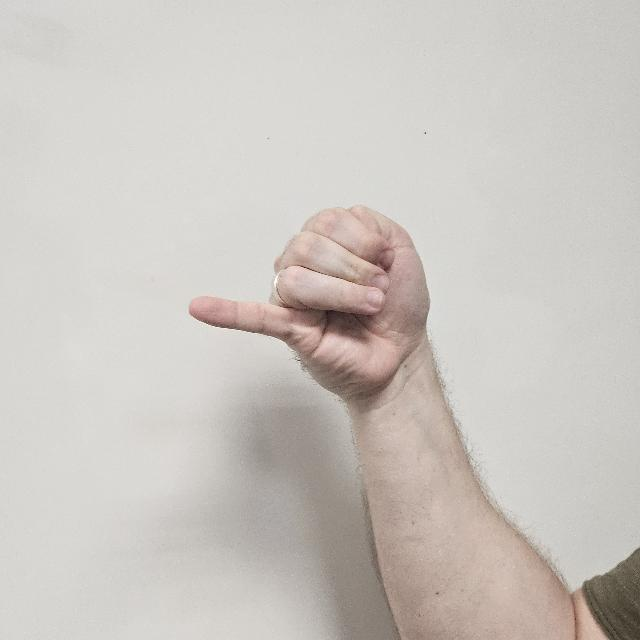Esquerda: (166, 195, 457, 397)
